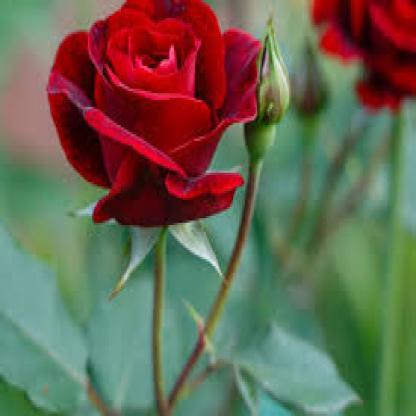Rose-Mawar: (306, 1, 416, 129)
